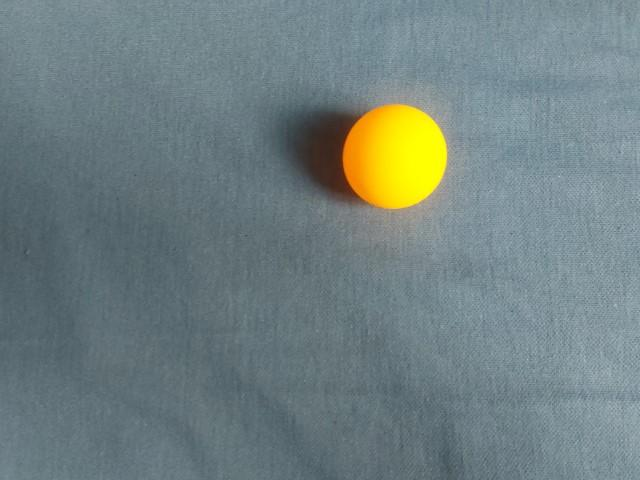oball: (189, 267, 305, 382)
